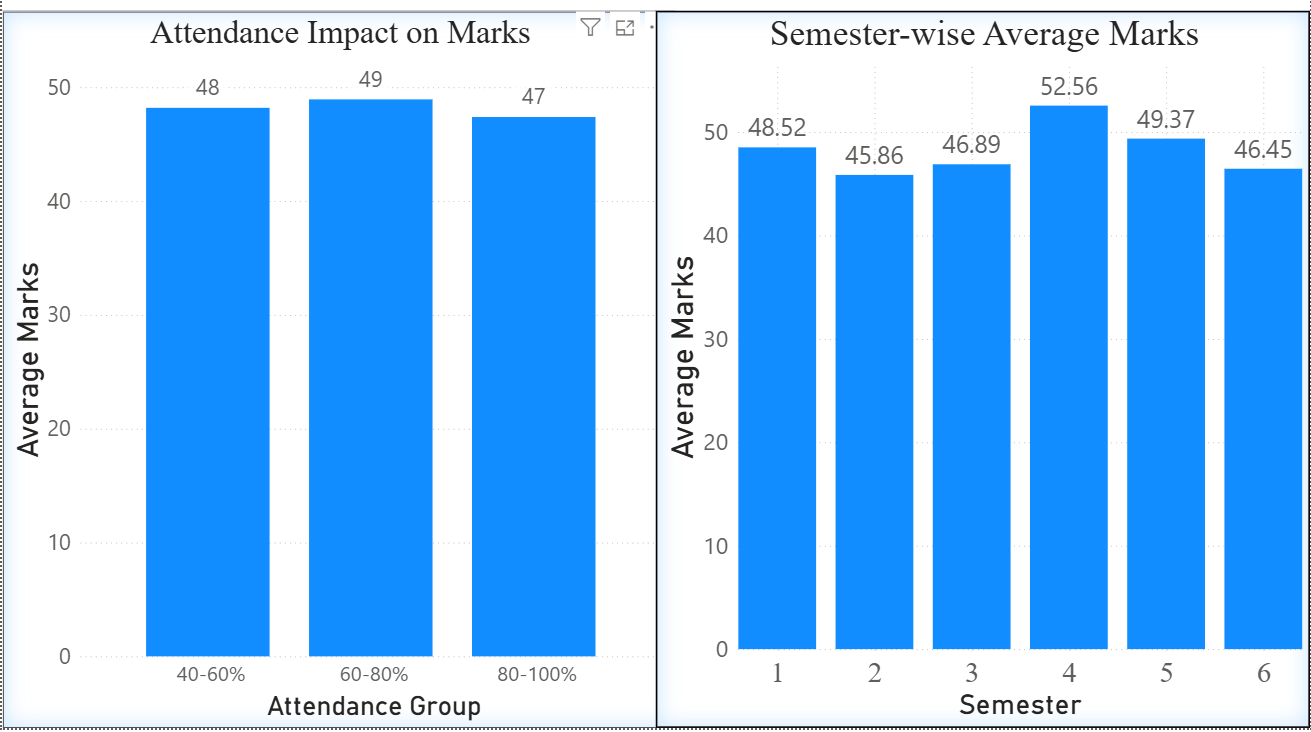

The dashboard page shown, as its layout file describes it:
{"tool":"powerbi","page":{"name":"Page 2","canvas":[1280,720],"ordinal":1},"visuals":[{"type":"lineClusteredColumnComboChart","title":"Attendance Impact on Marks","fields":{"Y":["Sheet1.Average Marks"],"Category":["Sheet1.Attendance Group"]},"box":[0,17.8,658.7,702.6],"z":0},{"type":"clusteredColumnChart","title":"Semester-wise Average Marks","fields":{"Y":["Sheet1.Average Marks"],"Category":["Sheet1.Semester"]},"box":[640,18.5,640,701.3],"z":1000}]}

Visuals, with their boxes in screenshot pixels (x1, y1, x2, y2), scaled from the page's 1280x720 canvas onto the 1311x732 screenshot:
"Attendance Impact on Marks" lineClusteredColumnComboChart: 0/18/675/731
"Semester-wise Average Marks" clusteredColumnChart: 656/19/1310/731
